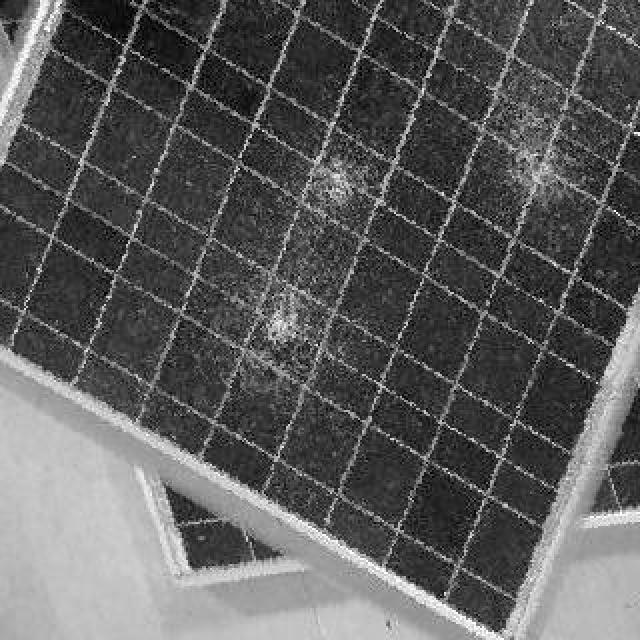Physical-damage: (215, 127, 393, 393), (467, 38, 609, 230)
